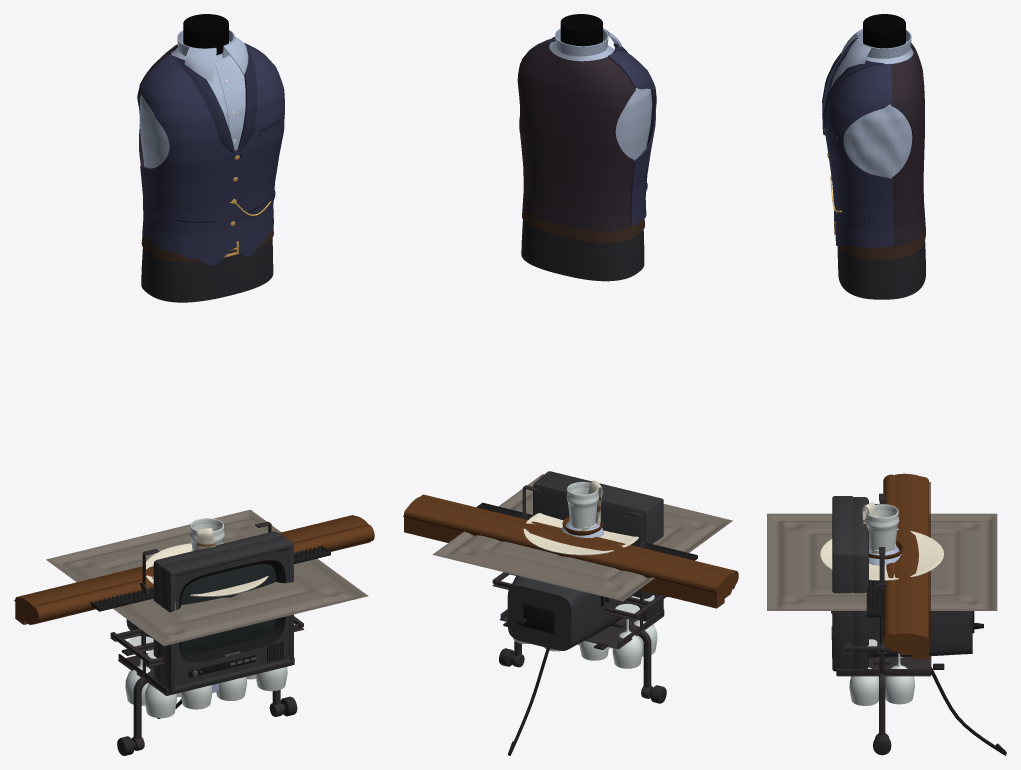
File: bar_intro.glb
3 views of the same model, side by side, from view 1: azimuth 30°, elevation 25°; view 2: azimuth 150°, elevation 25°; view 3: azimuth 270°, elevation 25° (orthographic). The views are drawn at different scales.
Parts seen in each view (by area): view 1: BarTorso, BarCrt, TinTile, CntRail, GlassRack, TvMount, BarMat, PendDiffuser; view 2: BarTorso, BarCrt, CntRail, TinTile, GlassRack, TvMount, PendDiffuser, Pint, BarMat; view 3: BarTorso, TinTile, BarCrt, CntRail, GlassRack, PendDiffuser, TvMount, Pint, BarMat.
Part boxes in pixels (x1,y1,x2,y2): BarTorso: (137, 14, 284, 302); BarCrt: (118, 521, 294, 695); TinTile: (46, 509, 368, 645); CntRail: (14, 515, 374, 624); GlassRack: (110, 616, 304, 718); TvMount: (117, 673, 297, 755); BarMat: (90, 545, 330, 611); PendDiffuser: (146, 543, 268, 596); BarTorso: (517, 14, 656, 281); BarCrt: (499, 471, 664, 650); CntRail: (403, 494, 738, 608); TinTile: (432, 474, 732, 601); GlassRack: (492, 572, 668, 668); TvMount: (499, 618, 666, 755); PendDiffuser: (523, 513, 638, 555); Pint: (566, 482, 598, 528); BarMat: (476, 502, 697, 560); BarTorso: (822, 14, 925, 299); TinTile: (767, 513, 997, 610); BarCrt: (831, 493, 983, 676); CntRail: (883, 473, 930, 659); GlassRack: (843, 617, 914, 705); PendDiffuser: (820, 528, 943, 580); TvMount: (873, 657, 1006, 755); Pint: (865, 504, 899, 551); BarMat: (866, 504, 883, 617).
Size of the model in its own units: 1 by 2.12 by 0.6355.
